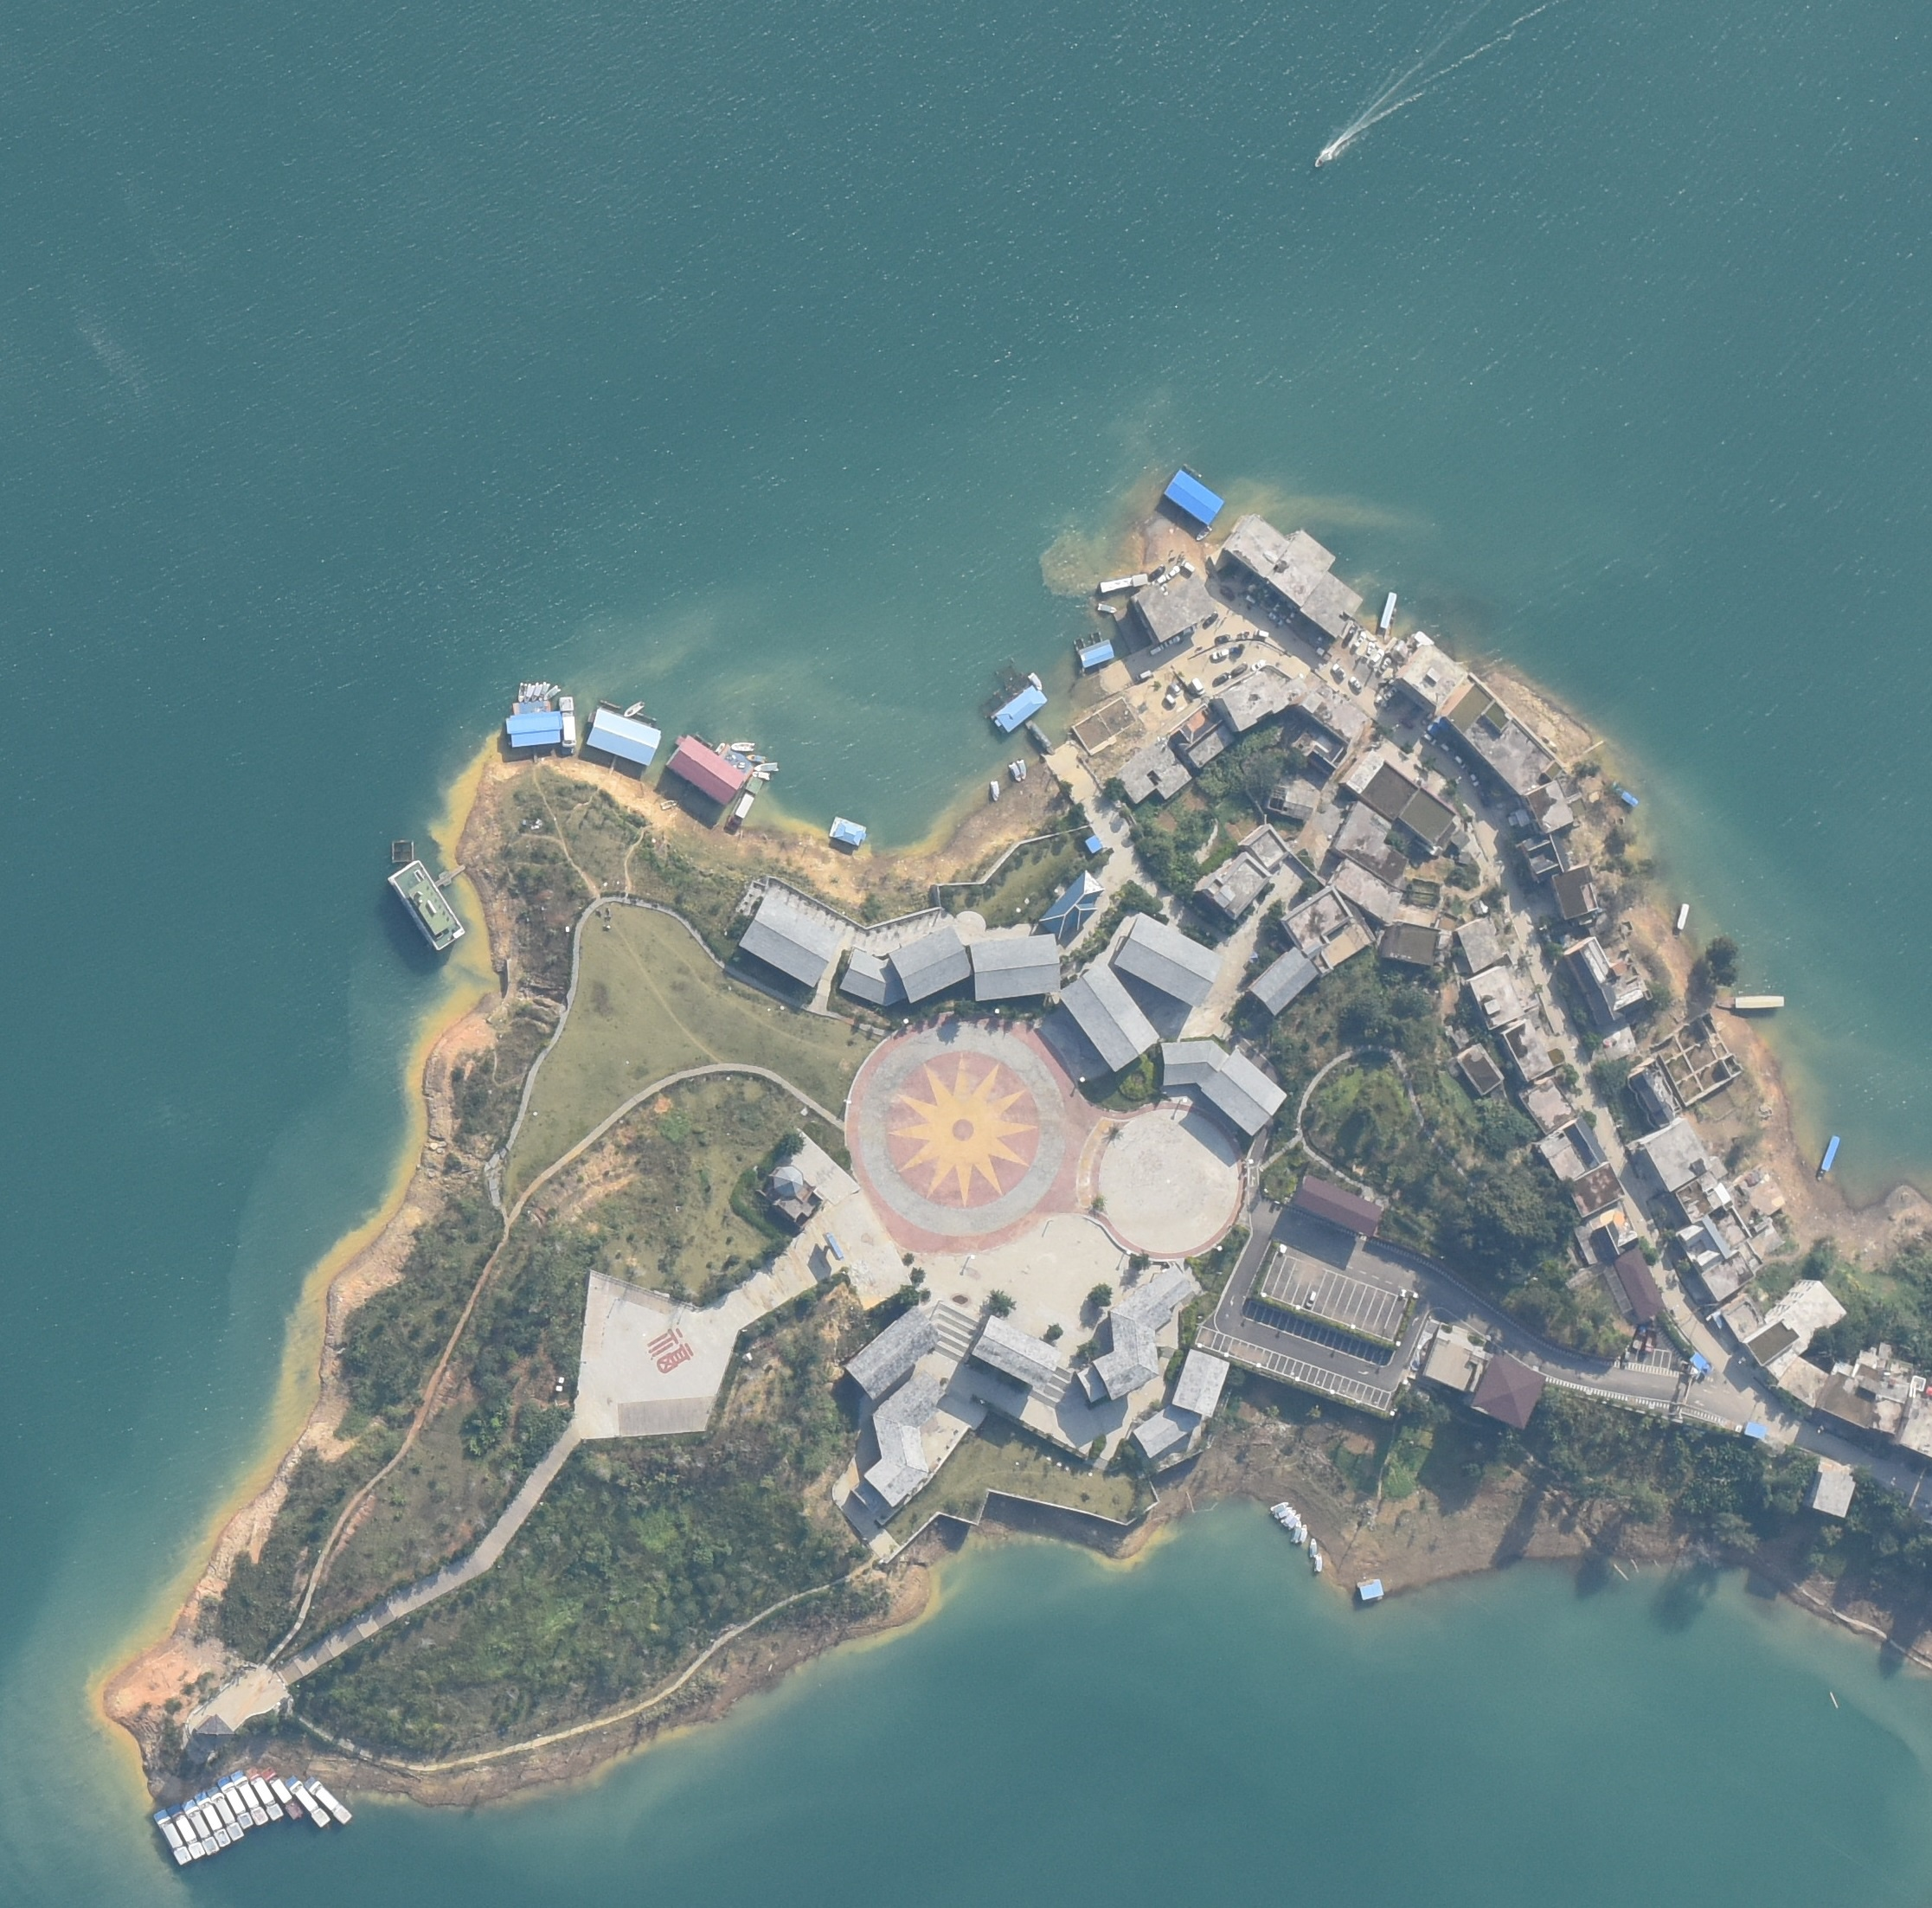building: (1443, 671, 1565, 793), (1816, 1345, 1913, 1436), (1563, 937, 1651, 1024), (1281, 887, 1371, 965), (389, 864, 465, 949), (1763, 1280, 1846, 1356), (1288, 671, 1369, 746), (1334, 804, 1409, 884), (1268, 528, 1337, 607), (1673, 1204, 1752, 1273), (1344, 748, 1417, 819), (1135, 575, 1216, 639), (1641, 1117, 1711, 1191), (1401, 785, 1471, 858), (1537, 1117, 1608, 1188), (1113, 741, 1191, 805), (1328, 859, 1402, 924), (1199, 854, 1269, 922), (1396, 644, 1468, 710), (1224, 513, 1289, 581), (1301, 571, 1363, 640), (1213, 673, 1287, 730), (1424, 1324, 1484, 1392), (1576, 1201, 1639, 1265), (1763, 1349, 1828, 1408), (1173, 703, 1232, 768), (1699, 1242, 1765, 1300), (1628, 1060, 1682, 1127), (1472, 965, 1524, 1030), (1522, 1076, 1576, 1134), (1505, 1019, 1554, 1082), (1570, 1162, 1625, 1217), (1384, 917, 1443, 967), (761, 1167, 814, 1222), (1810, 1457, 1855, 1519), (1674, 1171, 1729, 1221), (1454, 918, 1505, 972), (1551, 863, 1599, 918), (1295, 725, 1345, 776), (1522, 833, 1573, 882), (1712, 1294, 1764, 1342), (1525, 781, 1572, 832), (1746, 1321, 1798, 1368), (1456, 1045, 1504, 1095), (1243, 825, 1288, 870), (1597, 1020, 1639, 1062), (1278, 787, 1319, 818), (1587, 914, 1612, 936), (1385, 639, 1409, 661), (1210, 549, 1230, 571), (1508, 808, 1530, 827), (1712, 1154, 1728, 1179), (1570, 795, 1588, 817), (1412, 631, 1431, 645)
prefabricated-house: (1079, 1265, 1195, 1406), (1162, 1039, 1285, 1135), (1062, 961, 1162, 1070), (865, 1370, 941, 1506), (1116, 912, 1218, 1006), (844, 1307, 940, 1400), (738, 897, 833, 988), (890, 928, 972, 1004), (666, 733, 752, 805), (971, 933, 1062, 1000), (973, 1316, 1057, 1385), (1472, 1352, 1544, 1429), (1293, 1176, 1382, 1237), (1605, 1245, 1669, 1323), (1248, 946, 1315, 1014), (586, 709, 661, 765), (1172, 1349, 1231, 1419), (1039, 872, 1101, 936), (1133, 1405, 1200, 1456), (843, 950, 900, 1010), (1164, 471, 1223, 523), (507, 702, 562, 748), (992, 688, 1046, 730), (827, 816, 867, 847), (1078, 641, 1114, 668), (1609, 780, 1639, 808), (1358, 1579, 1383, 1601), (1743, 1420, 1768, 1438), (1082, 834, 1104, 852)
ship: (149, 1808, 192, 1867), (302, 1776, 352, 1826), (284, 1776, 329, 1828), (182, 1797, 221, 1855), (228, 1770, 266, 1827), (261, 1770, 302, 1821), (242, 1767, 282, 1820), (206, 1785, 243, 1841), (195, 1791, 230, 1849), (168, 1805, 206, 1859), (215, 1776, 253, 1830), (726, 777, 761, 832), (1817, 1134, 1842, 1186), (558, 696, 578, 755), (1099, 575, 1148, 594), (1717, 996, 1786, 1009), (1377, 591, 1396, 638), (1673, 903, 1690, 938), (1315, 144, 1338, 169), (1282, 1510, 1302, 1529), (623, 702, 645, 717), (1195, 524, 1213, 543), (1025, 671, 1043, 688), (1009, 762, 1022, 782), (989, 781, 1001, 800), (729, 742, 754, 752), (754, 762, 780, 772), (1274, 1507, 1293, 1519), (545, 685, 560, 700), (1097, 603, 1118, 614), (1292, 1521, 1301, 1544), (1017, 761, 1030, 778), (1270, 1501, 1288, 1513), (1313, 1553, 1323, 1573), (517, 681, 526, 702), (746, 755, 767, 762), (1300, 1525, 1308, 1544), (526, 684, 535, 702), (540, 681, 549, 699), (1309, 1539, 1317, 1558), (533, 683, 541, 700), (754, 773, 770, 780)
vehicle: (1632, 1327, 1646, 1352), (1643, 1328, 1657, 1352), (1369, 648, 1383, 671), (1315, 645, 1332, 662), (1219, 583, 1236, 601), (1353, 628, 1366, 650), (1191, 678, 1205, 697), (1343, 626, 1358, 643), (1305, 1289, 1318, 1309), (1203, 612, 1219, 627), (1149, 565, 1165, 580), (1213, 671, 1229, 686), (1332, 665, 1346, 681), (1250, 658, 1268, 672), (1378, 658, 1390, 677), (1232, 663, 1248, 678), (1349, 677, 1364, 692), (1421, 730, 1436, 745), (1210, 648, 1229, 660), (1399, 715, 1414, 729), (1181, 559, 1197, 573), (1383, 687, 1397, 703), (1254, 627, 1270, 640), (1214, 633, 1231, 646), (1364, 641, 1375, 661), (1165, 566, 1179, 581), (1439, 742, 1454, 755), (1136, 670, 1153, 681), (1267, 613, 1282, 625), (1469, 772, 1481, 787), (1151, 575, 1165, 588), (1168, 681, 1182, 694), (1165, 635, 1180, 646), (1621, 1349, 1630, 1367), (1421, 711, 1433, 725), (1182, 625, 1197, 636), (1454, 755, 1466, 769), (1164, 693, 1176, 705), (1244, 593, 1256, 605), (1149, 645, 1164, 654)
